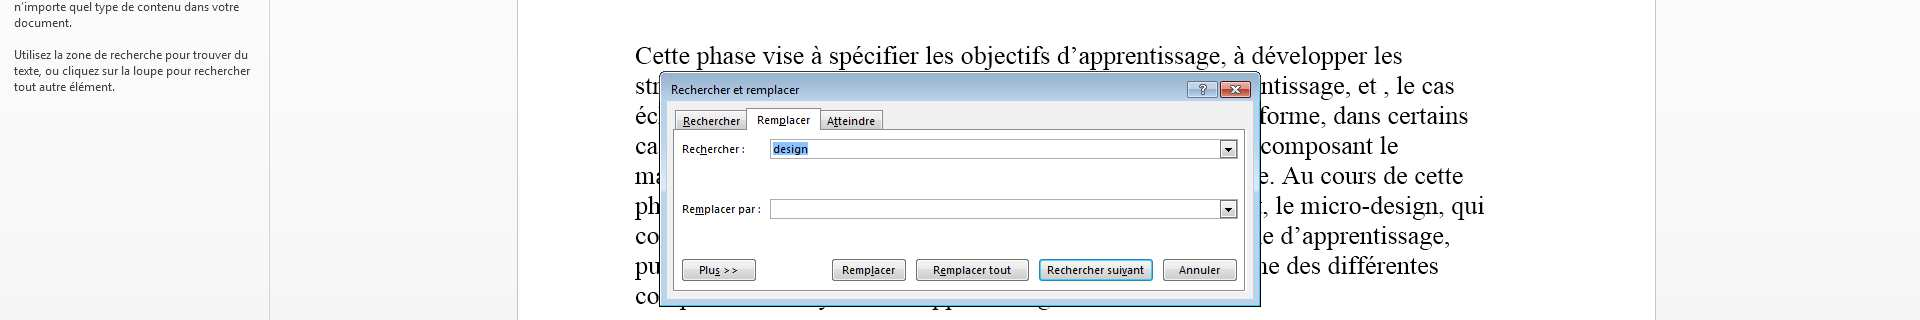texte: (1281, 226, 1449, 250), (1058, 47, 1220, 70), (1300, 196, 1442, 219), (1251, 47, 1367, 70), (830, 47, 920, 70), (1273, 139, 1373, 159), (961, 47, 1049, 70), (1040, 253, 1103, 284), (1329, 256, 1438, 273), (1273, 76, 1349, 101), (1256, 101, 1325, 128), (1389, 105, 1468, 124), (682, 260, 756, 280), (696, 47, 756, 70), (1108, 253, 1142, 284), (62, 56, 97, 85), (636, 47, 691, 64), (1333, 105, 1380, 124), (1416, 168, 1463, 184), (934, 266, 1011, 276), (1452, 196, 1484, 219), (1256, 216, 1273, 259), (763, 47, 804, 64), (683, 205, 756, 215), (1256, 246, 1278, 278), (1321, 172, 1376, 184), (1264, 196, 1294, 218), (683, 116, 740, 128), (636, 257, 662, 280), (1221, 82, 1258, 98), (15, 2, 66, 13), (1287, 256, 1320, 273), (683, 145, 740, 154), (1282, 167, 1314, 184), (758, 116, 811, 126), (842, 266, 895, 276), (1374, 47, 1402, 64), (195, 66, 250, 75), (1161, 253, 1176, 284), (15, 18, 69, 27), (926, 47, 953, 64), (111, 50, 162, 59), (1384, 166, 1407, 184), (1422, 82, 1453, 94), (133, 66, 163, 78), (138, 2, 180, 11), (70, 82, 111, 91), (1179, 266, 1220, 275), (1380, 136, 1398, 154), (636, 232, 662, 244), (15, 50, 51, 59), (1397, 76, 1414, 94), (193, 51, 231, 59), (1359, 78, 1376, 94), (666, 132, 675, 164), (665, 253, 673, 284), (636, 112, 658, 124), (636, 142, 658, 154), (13, 67, 40, 77), (96, 2, 118, 13), (167, 69, 191, 78), (212, 2, 239, 11), (70, 2, 91, 13), (167, 53, 189, 63), (185, 2, 208, 11), (40, 83, 66, 91), (636, 202, 647, 219), (812, 47, 822, 64), (1234, 47, 1244, 64), (13, 83, 36, 91), (66, 53, 91, 59), (235, 50, 247, 59), (122, 2, 133, 11), (96, 50, 107, 59), (103, 69, 118, 75), (1151, 253, 1153, 284), (47, 69, 58, 75), (55, 50, 62, 59), (122, 66, 129, 75), (1384, 92, 1389, 98), (770, 200, 771, 219), (905, 260, 906, 280), (665, 200, 666, 211), (1256, 208, 1258, 215), (1271, 181, 1273, 184), (661, 74, 662, 75), (1029, 260, 1029, 280)
